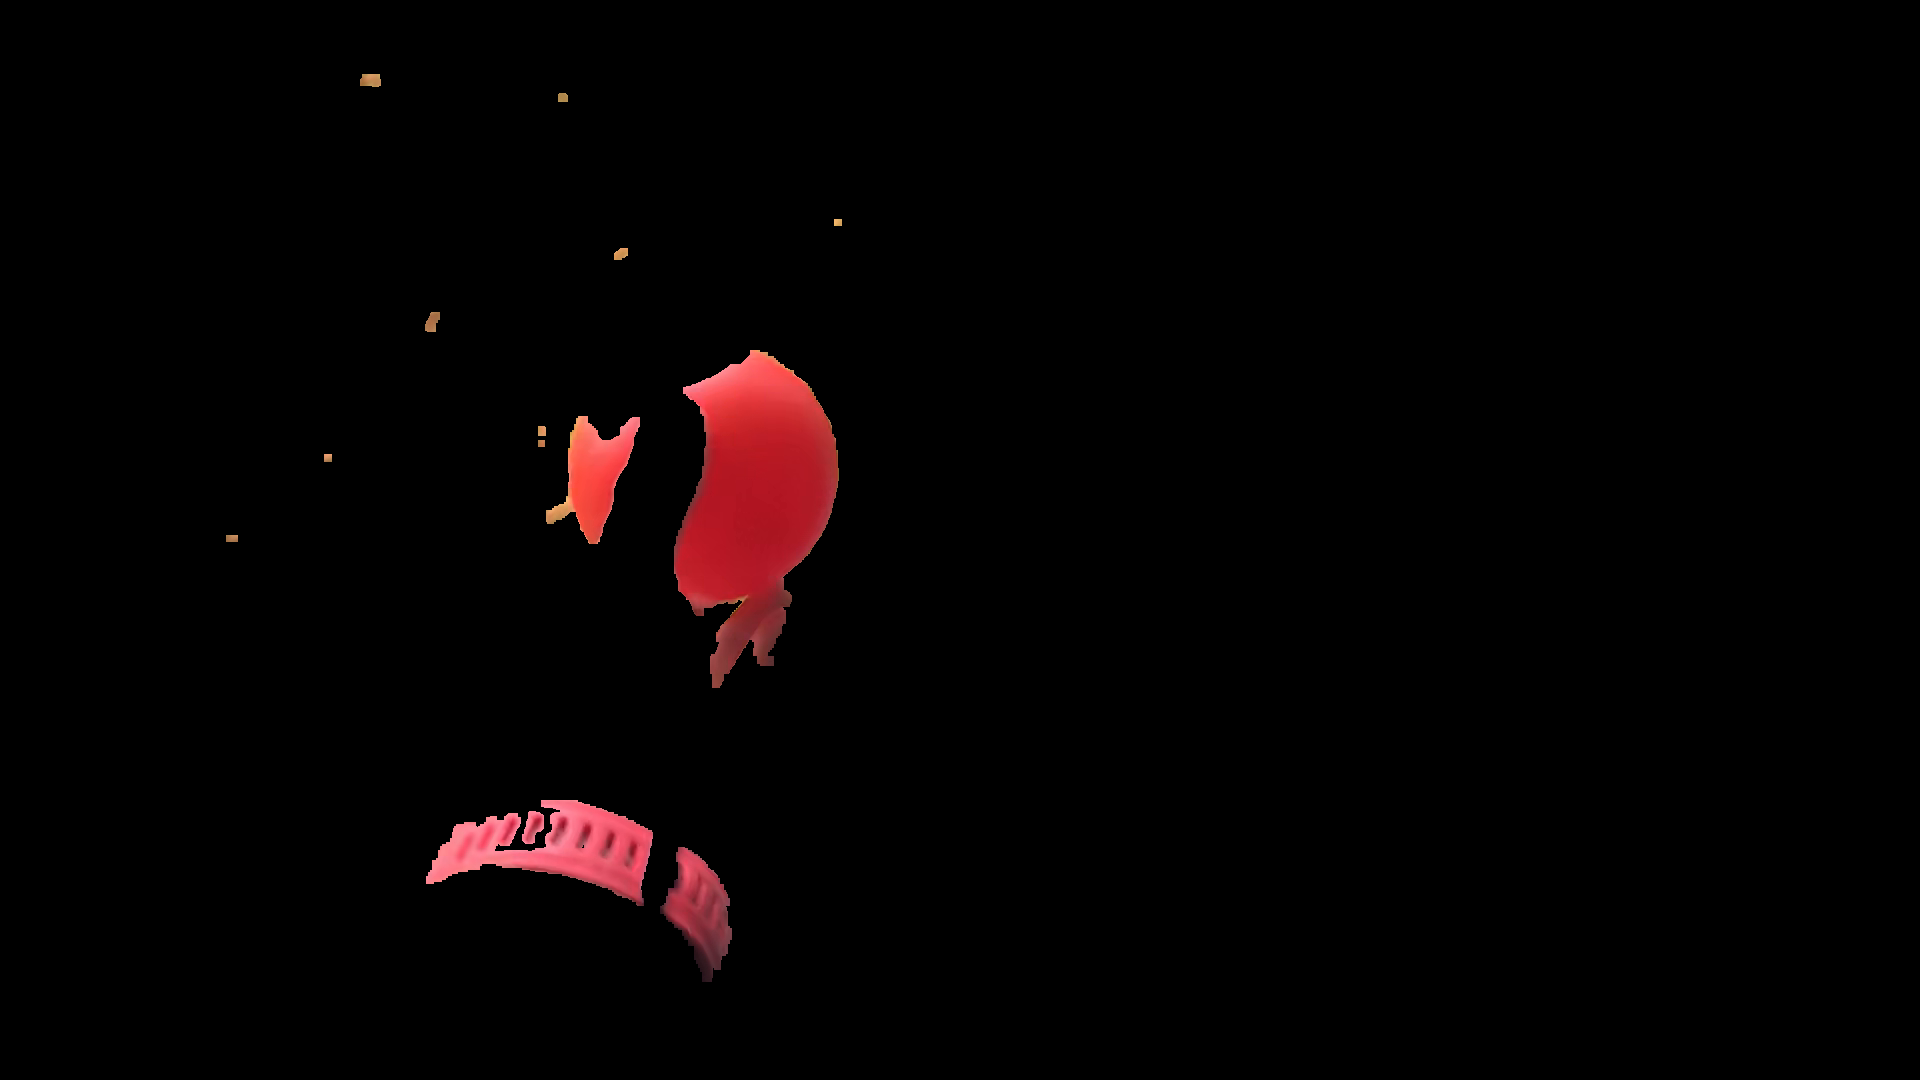Ball: (570, 338, 840, 607)
